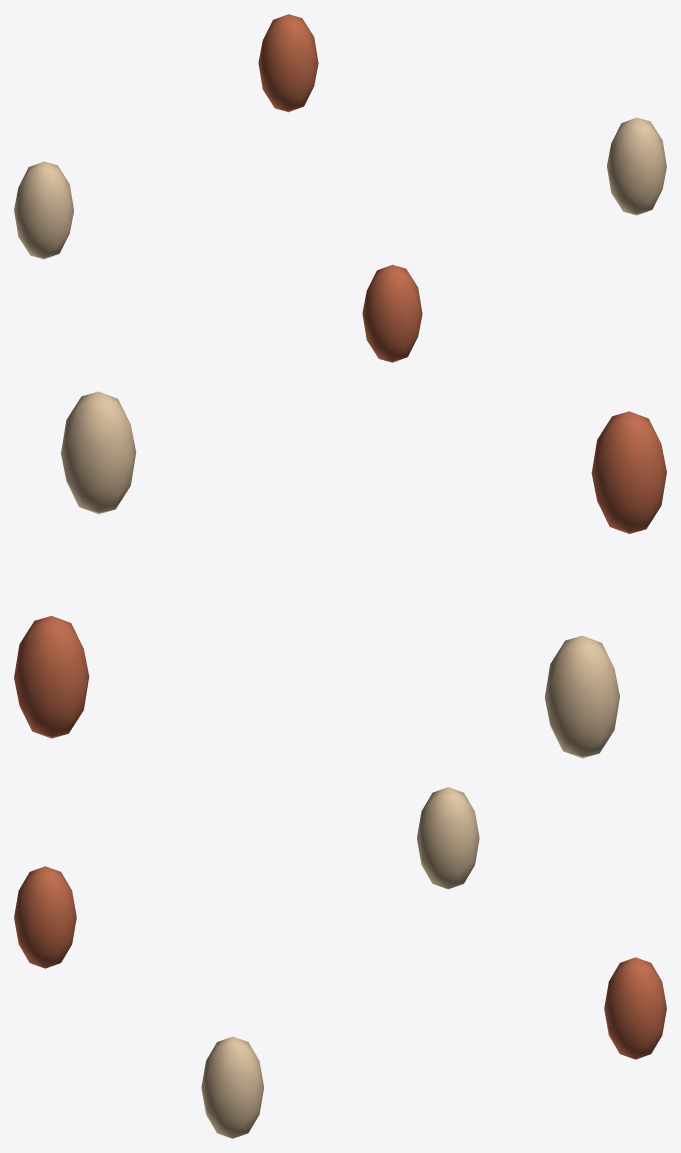
Rendered from boundary.glb.
3 renders of one model, top to bottom at view 1: azimuth 30°, elevation 25°; view 2: azimuth 150°, elevation 25°; view 3: azimuth 270°, elevation 25°, orthographic. The views are drawn at different scales.
Parts seen in each view (by area): view 1: boundary_1, boundary_3, boundary_0, boundary_2; view 2: boundary_1, boundary_3, boundary_0, boundary_2; view 3: boundary_1, boundary_3, boundary_0, boundary_2.
Boxes of the visible parts, x1,y1,x2,y2 form: boundary_1: [362, 264, 422, 362]; boundary_3: [258, 14, 318, 112]; boundary_0: [607, 117, 666, 215]; boundary_2: [14, 161, 73, 259]; boundary_1: [591, 411, 666, 533]; boundary_3: [14, 616, 89, 738]; boundary_0: [61, 391, 136, 514]; boundary_2: [544, 635, 619, 758]; boundary_1: [14, 866, 76, 968]; boundary_3: [604, 957, 666, 1059]; boundary_0: [201, 1036, 263, 1138]; boundary_2: [417, 787, 479, 889].
Size of what is drawn, in the model's own units: 17.67 by 3.06 by 17.67.
